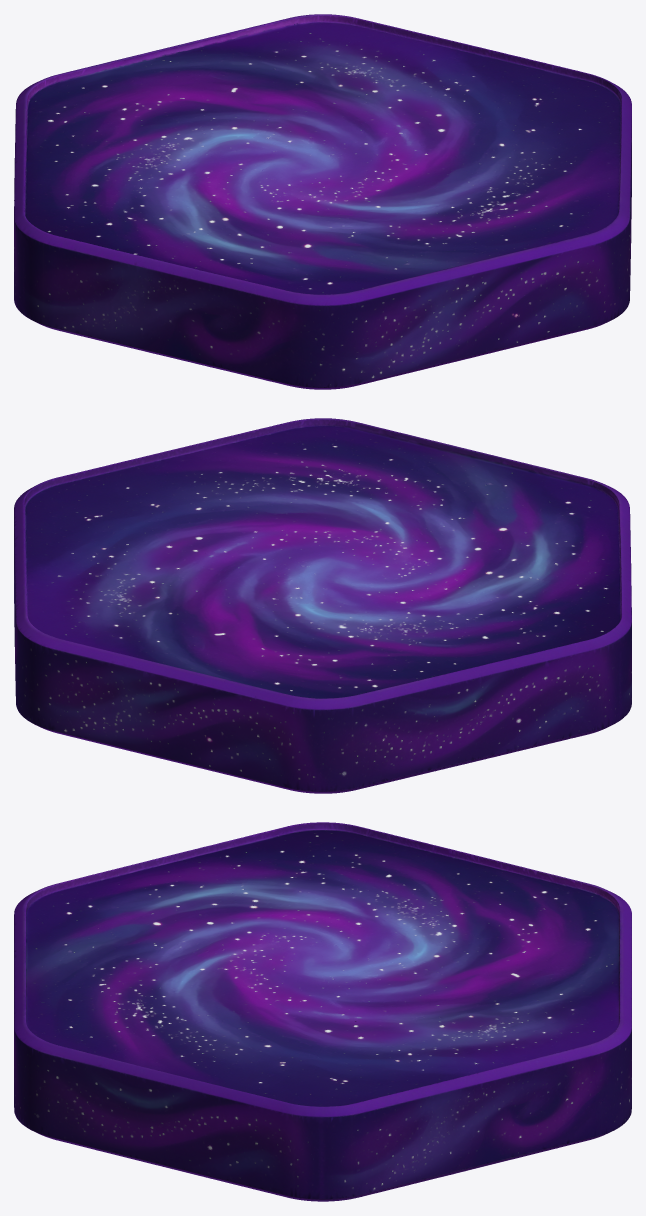
The model's file is Meshy_AI_crystal__0328133543_texture.glb.
3 renders of one model, top to bottom at view 1: azimuth 30°, elevation 25°; view 2: azimuth 150°, elevation 25°; view 3: azimuth 270°, elevation 25°, orthographic.
Bounding box in the file's own units: 1.9 × 0.2877 × 1.69.
1 material, 1 textured.
